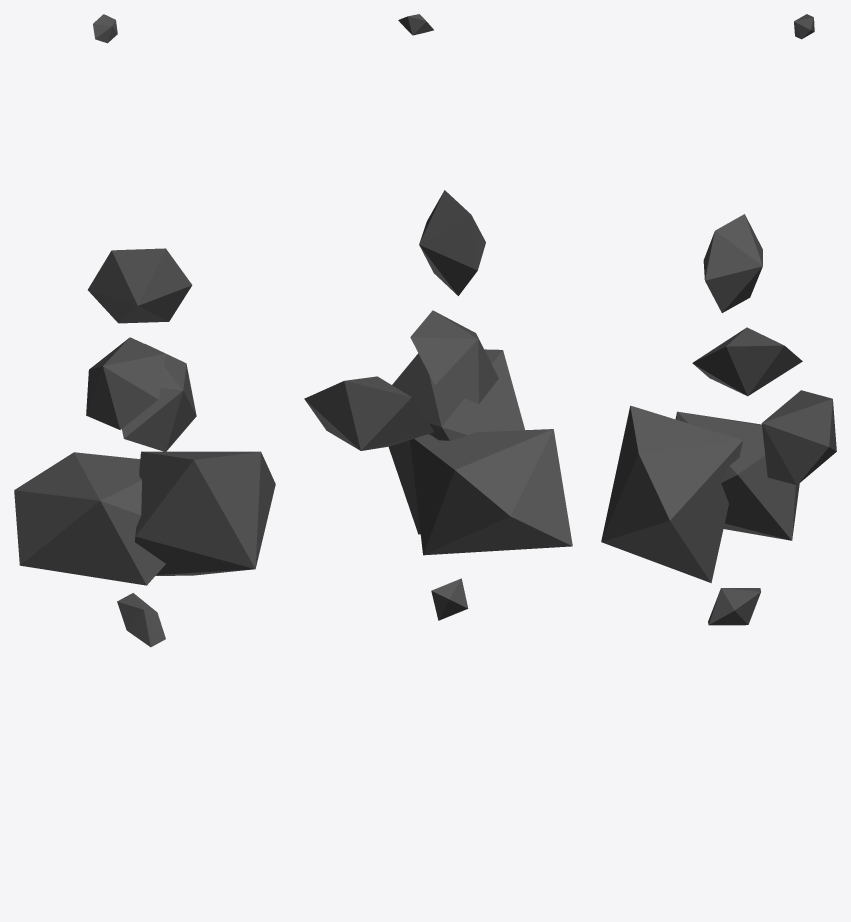
Rendered from smoke.fbx.
3 views of the same model, side by side, from view 1: azimuth 30°, elevation 25°; view 2: azimuth 150°, elevation 25°; view 3: azimuth 270°, elevation 25° (orthographic). The views are drawn at different scales.
Parts seen in each view (by area): view 1: smoke_012, smoke_011, smoke_005, smoke_010, smoke_008, smoke_004, smoke_007; view 2: smoke_011, smoke_012, smoke_008, smoke_010, smoke_005, smoke_004; view 3: smoke_012, smoke_011, smoke_008, smoke_010, smoke_005, smoke_004.
Part boxes in pixels (x1,y1,x2,y2): smoke_012: (134, 451, 275, 575); smoke_011: (14, 452, 165, 585); smoke_005: (88, 248, 192, 323); smoke_010: (86, 337, 165, 429); smoke_008: (122, 344, 196, 451); smoke_004: (117, 593, 165, 647); smoke_007: (93, 14, 117, 43); smoke_011: (410, 429, 572, 555); smoke_012: (388, 349, 524, 534); smoke_008: (304, 376, 434, 450); smoke_010: (410, 310, 498, 403); smoke_005: (419, 190, 485, 295); smoke_004: (431, 578, 468, 620); smoke_012: (601, 405, 742, 583); smoke_011: (675, 411, 799, 540); smoke_008: (761, 390, 836, 484); smoke_010: (692, 327, 802, 396); smoke_005: (703, 214, 762, 312); smoke_004: (708, 588, 760, 625).
Size of the model in its own units: 54 by 203 by 48.78.
